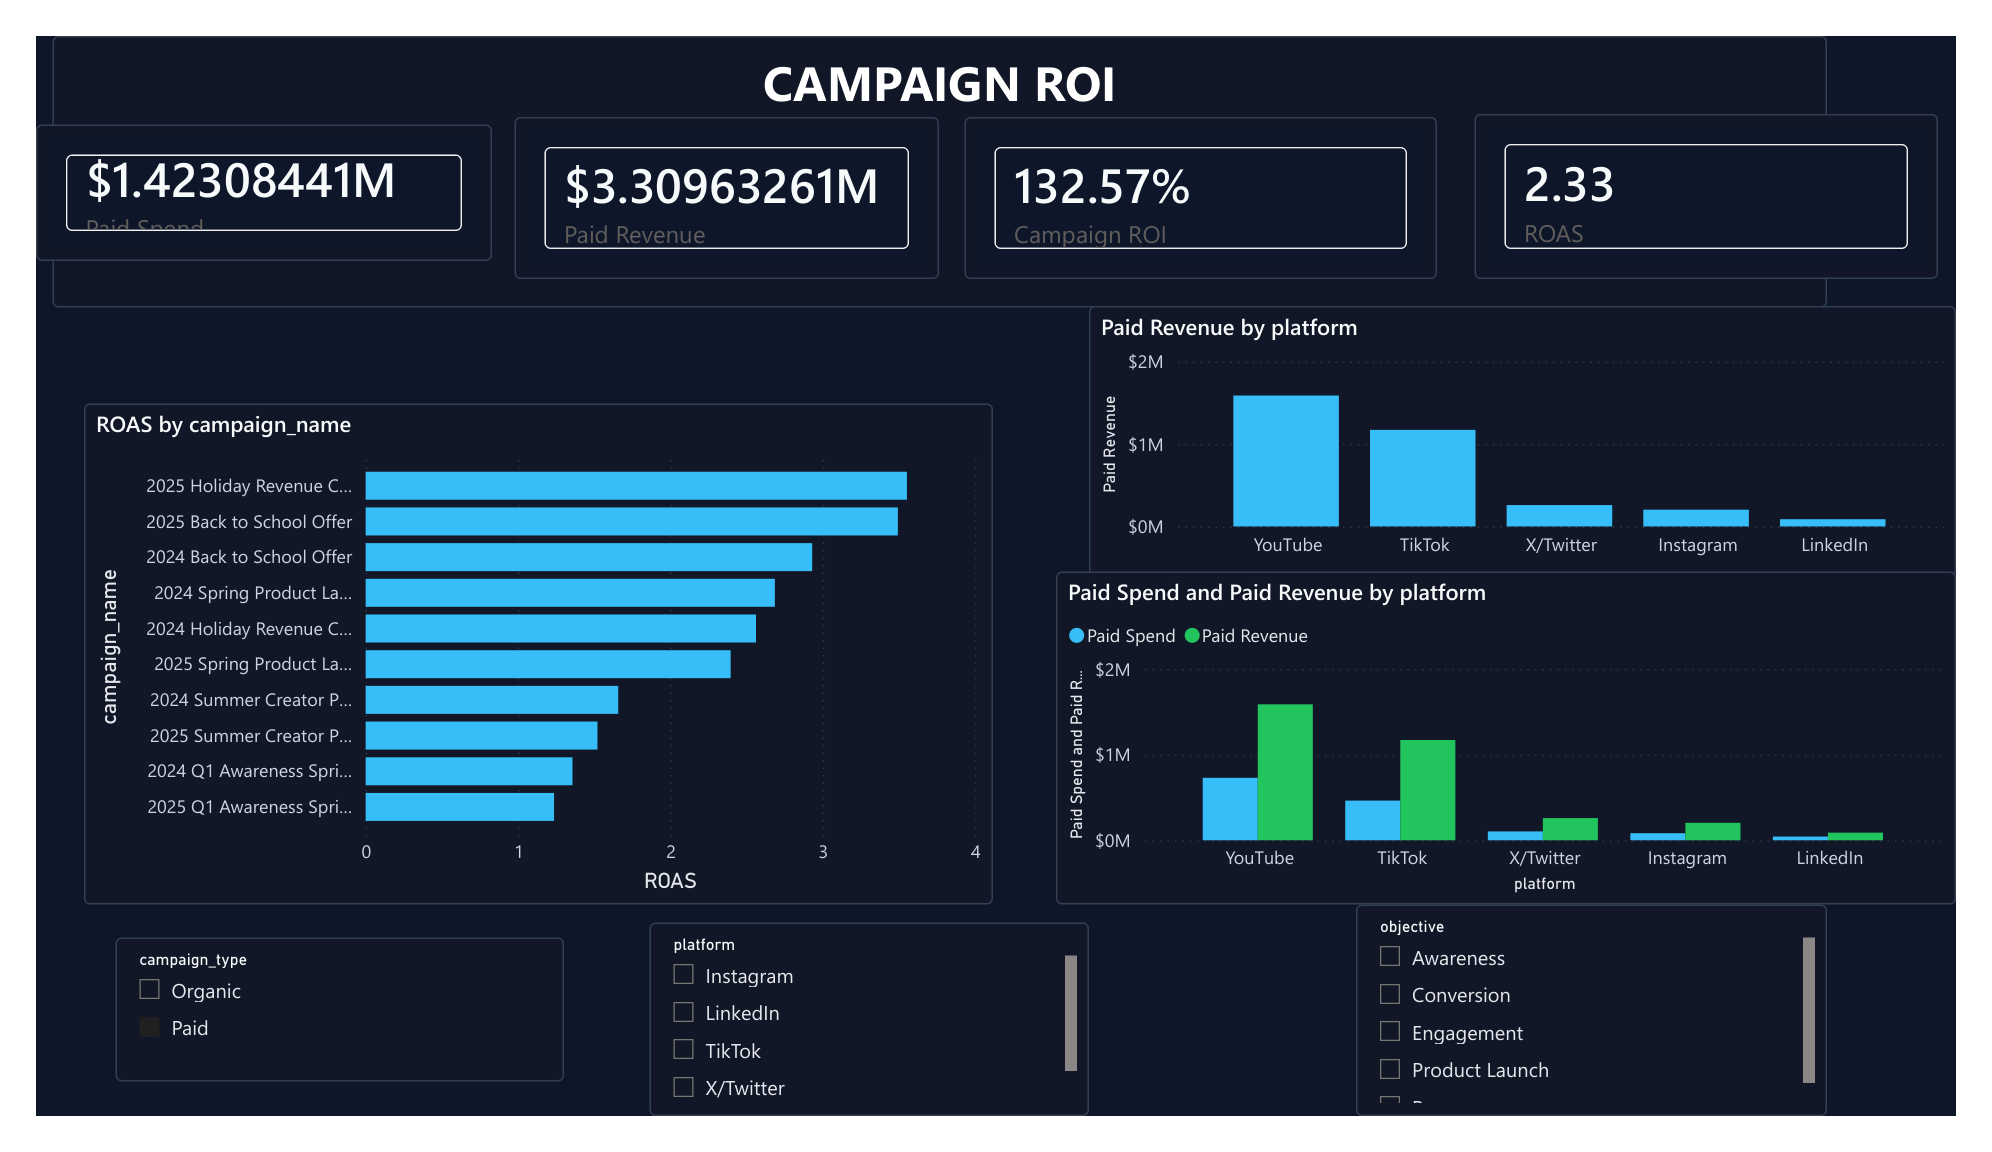

This screenshot's page, from the dashboard's own definition file:
{"tool":"powerbi","page":{"name":"Campaign ROI","canvas":[1280,720],"ordinal":4},"visuals":[{"type":"textbox","box":[10.6,0,1183.5,181.2],"z":0},{"type":"cardVisual","fields":{"Data":["ab_tests.Paid Spend"]},"box":[0,66.7,352,129.3],"z":1000},{"type":"cardVisual","fields":{"Data":["ab_tests.Paid Revenue"]},"box":[324.4,64.6,318.3,132.9],"z":2000},{"type":"cardVisual","fields":{"Data":["ab_tests.Campaign ROI"]},"box":[618.8,64.7,330.6,124.7],"z":3000},{"type":"cardVisual","fields":{"Data":["ab_tests.ROAS"]},"box":[949.4,58.8,330.6,122.4],"z":4000},{"type":"clusteredColumnChart","fields":{"Y":["ab_tests.Paid Revenue"],"Category":["campaigns.platform"]},"box":[702.4,180.5,578,179.3],"z":5000},{"type":"clusteredColumnChart","fields":{"Category":["campaigns.platform"],"Y":["ab_tests.Paid Spend","ab_tests.Paid Revenue"]},"box":[680.5,343.9,600,222],"z":6000},{"type":"slicer","fields":{"Values":["campaigns.campaign_type"]},"box":[25.6,622,298.8,97.6],"z":7000},{"type":"slicer","fields":{"Values":["campaigns.platform"]},"box":[408.5,591.5,293.9,128],"z":8000},{"type":"slicer","fields":{"Values":["campaigns.objective"]},"box":[880.5,579.3,313.4,140.2],"z":9000},{"type":"clusteredBarChart","fields":{"Y":["ab_tests.ROAS"],"Category":["campaigns.campaign_name"]},"box":[31.7,245.1,606.1,334.1],"z":10000}]}

Visuals, with their boxes in screenshot pixels (x1, y1, x2, y2), scaled from the page's 1280x720 canvas onto the 1992x1152 screenshot:
textbox: locate(16, 0, 1858, 290)
cardVisual - ab_tests.Paid Spend: locate(0, 107, 548, 314)
cardVisual - ab_tests.Paid Revenue: locate(505, 103, 1000, 316)
cardVisual - ab_tests.Campaign ROI: locate(963, 104, 1478, 303)
cardVisual - ab_tests.ROAS: locate(1478, 94, 1991, 290)
clusteredColumnChart - ab_tests.Paid Revenue x campaigns.platform: locate(1093, 289, 1991, 576)
clusteredColumnChart - campaigns.platform x ab_tests.Paid Spend: locate(1059, 550, 1991, 905)
slicer - campaigns.campaign_type: locate(40, 995, 505, 1151)
slicer - campaigns.platform: locate(636, 946, 1093, 1151)
slicer - campaigns.objective: locate(1370, 927, 1858, 1151)
clusteredBarChart - ab_tests.ROAS x campaigns.campaign_name: locate(49, 392, 993, 927)
